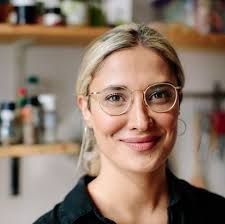white_female: (95, 73, 183, 159)
